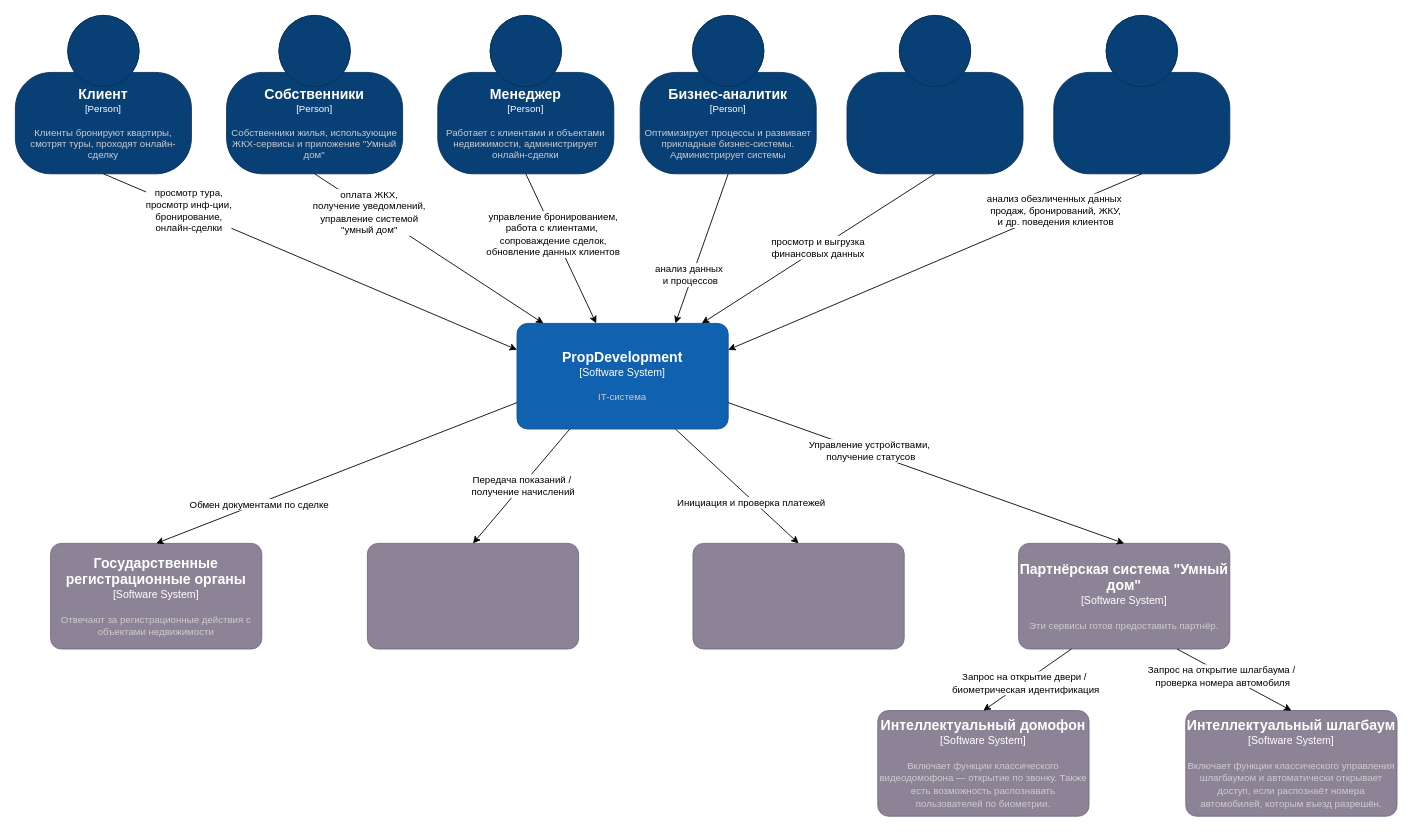
The diagram is 1412 pixels wide and 832 high, and some of its shapes have lost their labels. Each missing label, with the box of its shape:
Аналитик BI [Person] Анализирует данные и готовит отчётность: (1053, 15, 1230, 174)
Бухгалтер [Person] Ведёт бухгалтерский учёт: (846, 15, 1023, 174)
Платёжная система [Software System] Провайдер онлайн-платежей: (692, 543, 904, 649)
Поставщик ресурсов ЖКХ [Software System]: (367, 543, 579, 649)
